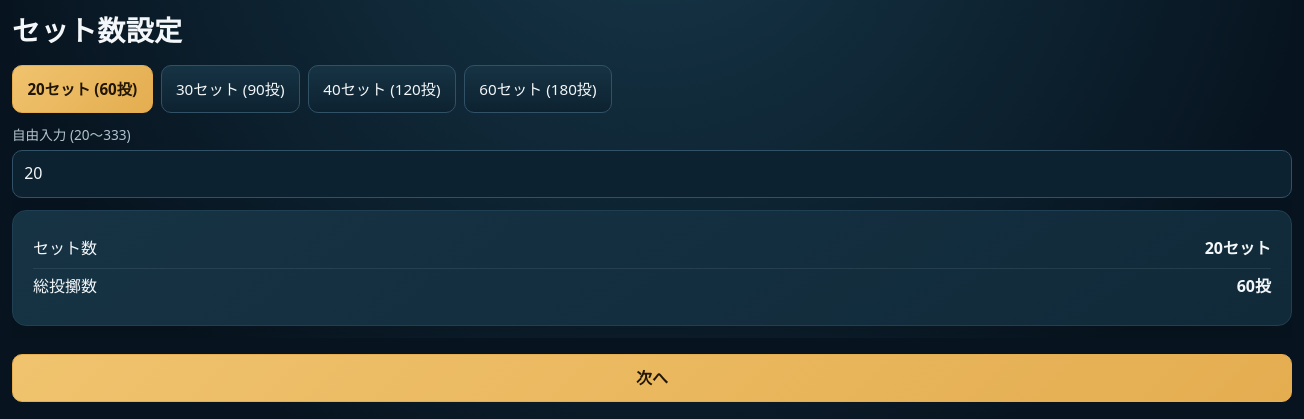
Test: SetCountPage (トレーニング設定) › 333セットは受け付ける
The image size is (1304, 419).
Replace the text in the number field with "333": (652, 174) [12,150,1292,198]
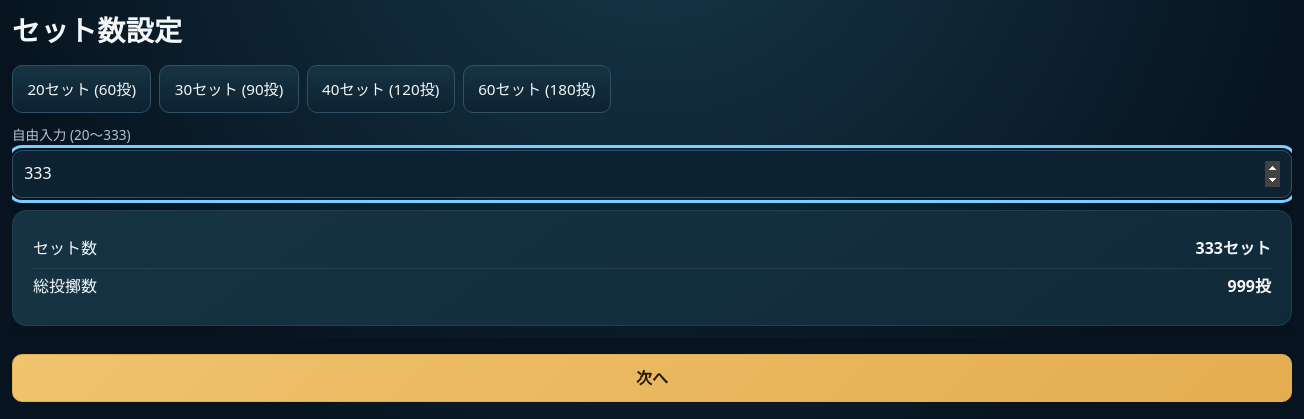
Check: the button "次へ" is enabled, box [12,354,1292,402]
Check: the text "999投" is shown, box [1228,274,1271,300]
